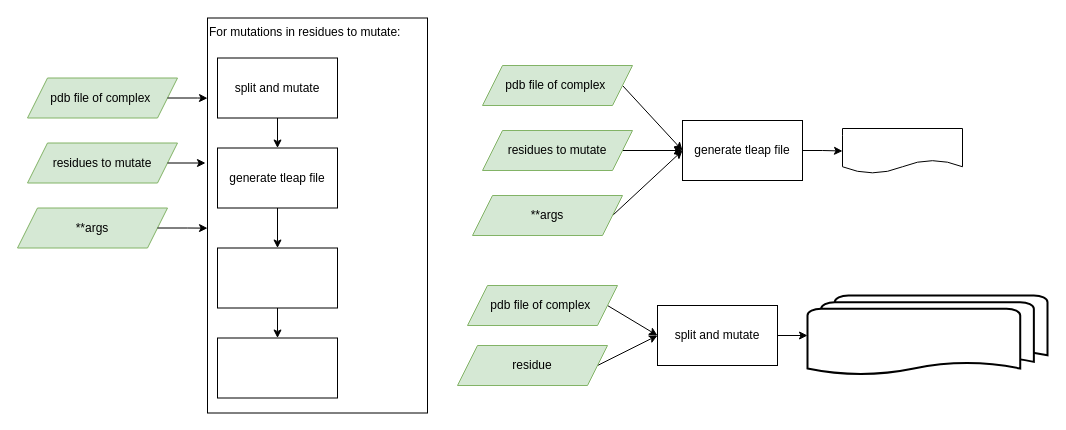
Some shapes in this 1066 by 430 pixel diagram are drawn without their labels. Each missing label, with the centre of its shape:
"generate bash script to run mmbsa" belongs at [277,277].
"receptor, ligand, mutated ligand" belongs at [927,335].
"run bash (tleap and MMPBSA)" belongs at [277,367].
"tleap.in file" belongs at [902,151].
